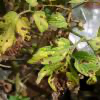Tomato leaf bacterial spot: (0, 8, 30, 65), (27, 38, 75, 65), (71, 51, 98, 77), (32, 11, 49, 32), (47, 12, 68, 28)
